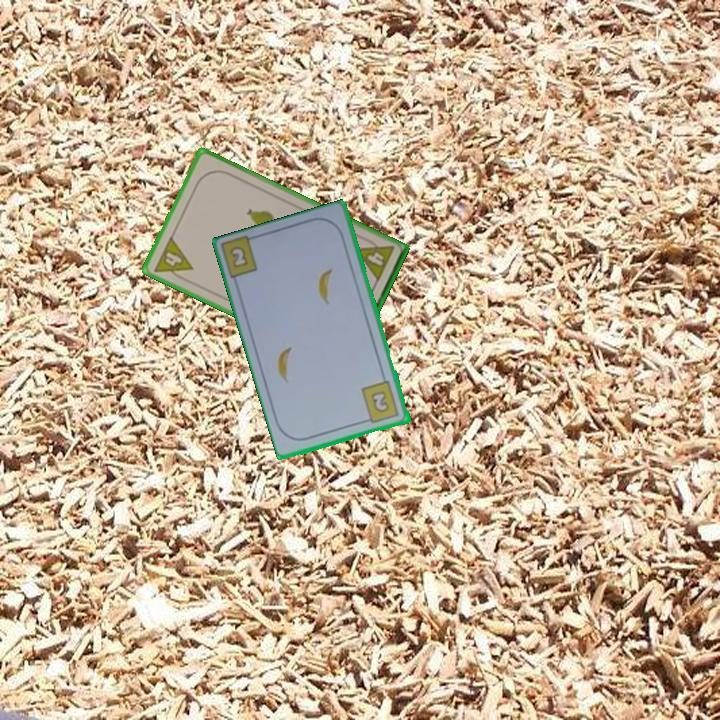2b: (358, 378, 402, 426), (226, 243, 251, 271)
4p: (150, 233, 196, 285), (353, 234, 397, 285)
